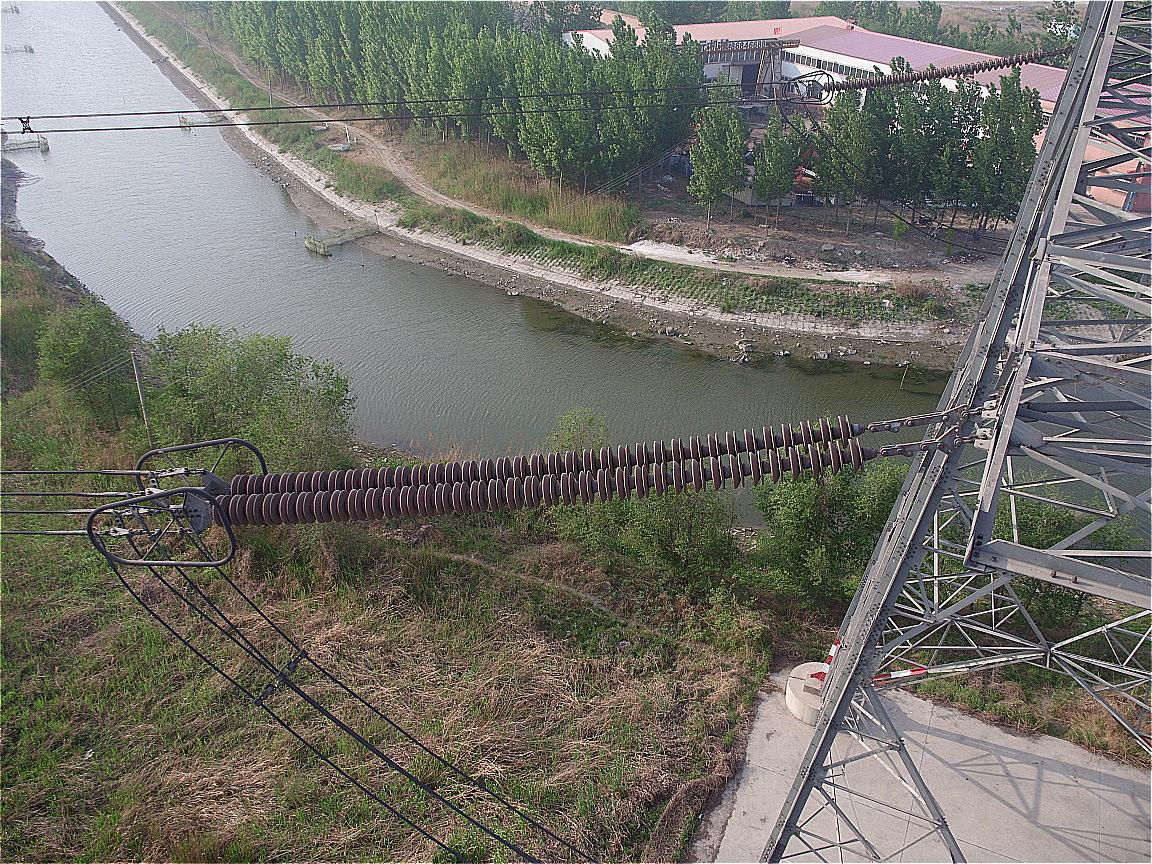insultor1: (826, 48, 1042, 91)
insultor2: (211, 412, 865, 529)
